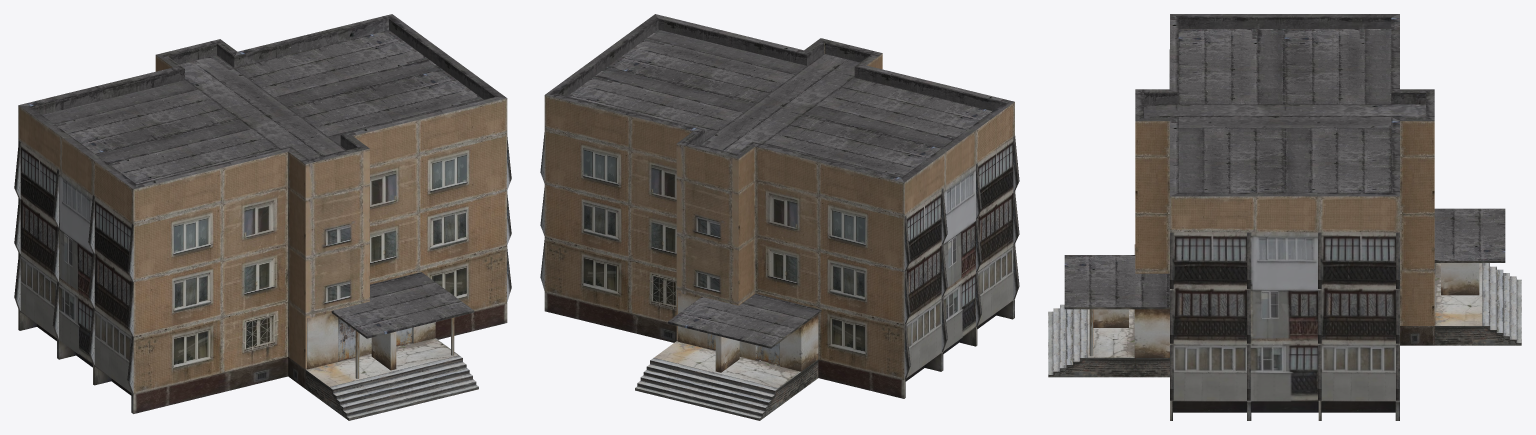
The model's file is panel_house.glb.
The picture shows the model from 3 angles, left to right: view 1: azimuth 30°, elevation 25°; view 2: azimuth 150°, elevation 25°; view 3: azimuth 270°, elevation 25°; orthographic projection. The views are drawn at different scales.
Visible parts, largest first — view 1: Merged; view 2: Merged; view 3: Merged.
Boxes of the visible parts, bbox=[...] form: Merged: bbox=[14, 14, 511, 420]; Merged: bbox=[540, 14, 1019, 420]; Merged: bbox=[1048, 14, 1521, 420].
Bounding box in the file's own units: 17.82 × 10 × 19.09.
Materials: 1 (1 with a texture image).
